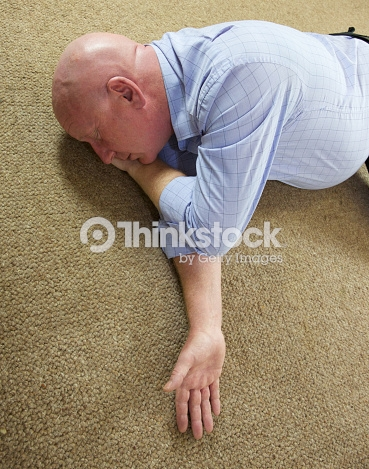collapsed: (6, 13, 369, 441)
